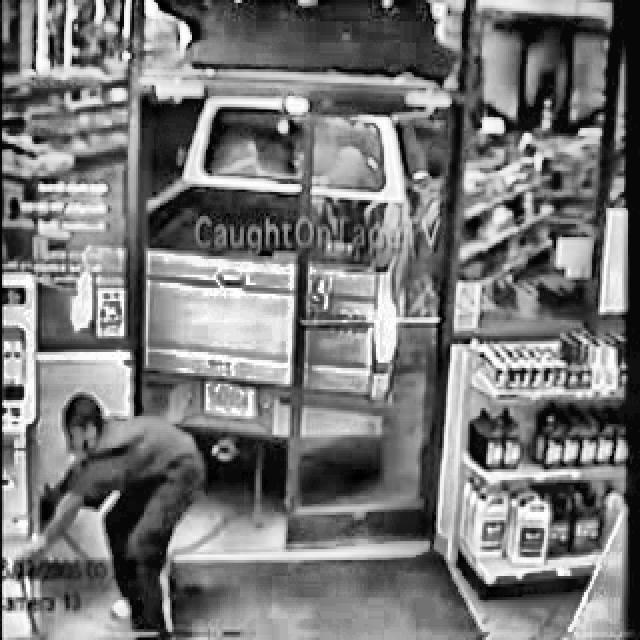burglary: (138, 87, 456, 476), (0, 385, 212, 640)
